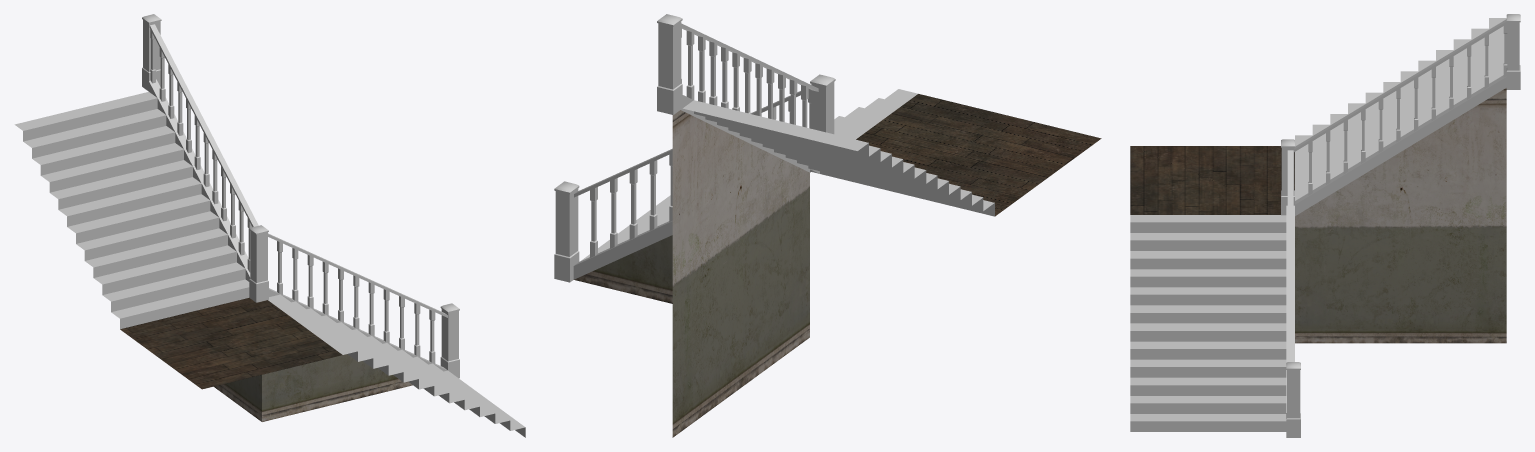
File: downtown_staircase.fbx
3 views of the same model, side by side, from view 1: azimuth 30°, elevation 25°; view 2: azimuth 150°, elevation 25°; view 3: azimuth 270°, elevation 25° (orthographic). The views are drawn at different scales.
Visible parts, largest first — view 1: downtown_staircase; view 2: downtown_staircase; view 3: downtown_staircase.
Part boxes in pixels (box(x1,y1,x2,y2)): downtown_staircase: box(14, 14, 525, 437); downtown_staircase: box(554, 14, 1101, 437); downtown_staircase: box(1130, 14, 1520, 437).
Size of the model in its own units: 5.17 by 4.78 by 5.19.
